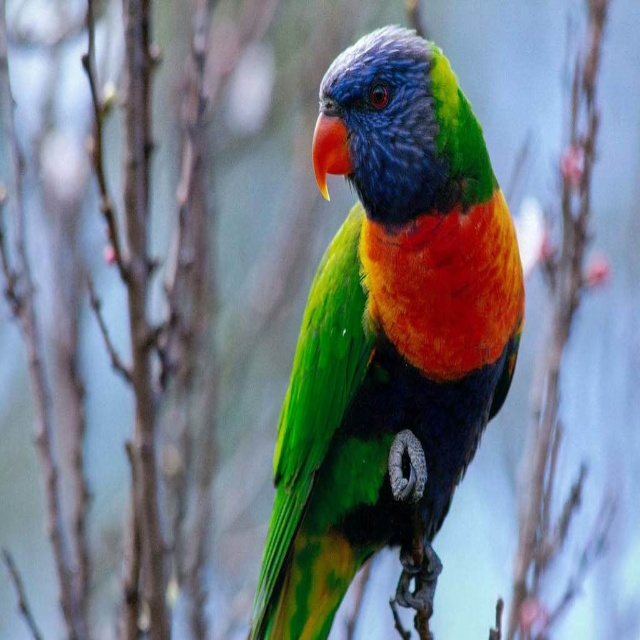Parrot: (246, 25, 526, 639)
